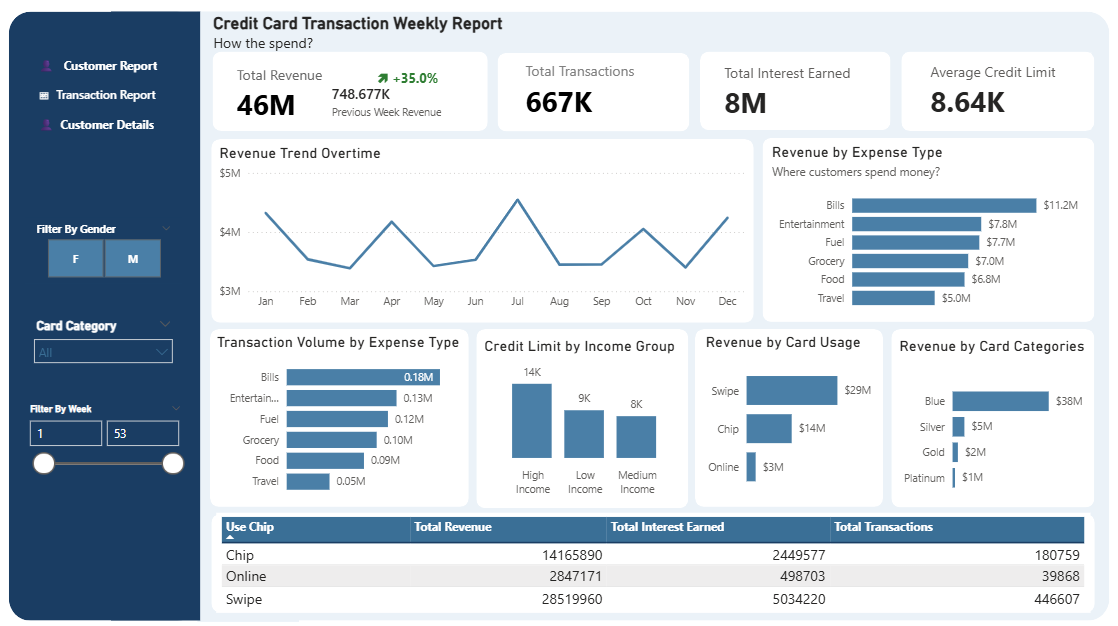

What the dashboard file says about the page in this screenshot:
{"tool":"powerbi","page":{"name":"🗠  Transaction Report","canvas":[1280,720],"ordinal":1},"visuals":[{"type":"group","id":"g1","title":"Background ","box":[10,11.4,1258.6,697.1],"z":0},{"type":"shape","box":[10,11.4,217.7,695.5],"z":0,"group":"g3"},{"type":"group","id":"g2","title":"Right Background","box":[225.4,11.6,1043.1,696.9],"z":0,"group":"g1"},{"type":"shape","box":[248.7,11.9,1019.8,695.5],"z":0,"group":"g2"},{"type":"shape","box":[235.8,62.9,318.5,104.3],"z":0,"group":"g7"},{"type":"shape","box":[568.6,62.9,332.9,104.3],"z":0,"group":"g5"},{"type":"shape","box":[915.7,62.9,332.9,104.3],"z":0,"group":"g4"},{"type":"group","id":"g3","title":"Left Background","box":[10,11.4,219.1,695.5],"z":1000,"group":"g1"},{"type":"shape","box":[127.4,11.4,101.7,695.5],"z":1000,"group":"g3"},{"type":"textbox","box":[238.6,11.4,408.6,67.1],"z":1000},{"type":"shape","box":[225.4,11.6,116,696.9],"z":1000,"group":"g2"},{"type":"cardVisual","fields":{"Data":["CreditCard.Total Transactions"]},"box":[574.2,63.1,216.3,100],"z":1000,"group":"g5"},{"type":"cardVisual","fields":{"Data":["CreditCard.Average Credit Limit"]},"box":[927.1,65.8,214.3,100],"z":1000,"group":"g4"},{"type":"cardVisual","fields":{"Data":["CreditCard.Total Revenue"]},"box":[234.3,67.3,164.1,91.1],"z":1000,"group":"g7"},{"type":"image","box":[491.4,71.7,54.3,41.1],"z":2000,"group":"g7"},{"type":"image","box":[817.9,78.6,60.5,40],"z":2000,"group":"g5"},{"type":"image","box":[1178.6,78.6,60,40],"z":2000,"group":"g4"},{"type":"slicer","fields":{"Values":["customer.Gender"]},"box":[17.1,250,190,74.3],"z":2000},{"type":"slicer","fields":{"Values":["CreditCard.Card_Category"]},"box":[12.9,360,185.7,70],"z":3000},{"type":"slicer","fields":{"Values":["CreditCard.Week Label"]},"box":[15.7,461.4,185.7,70],"z":4000},{"type":"pageNavigator","box":[28.6,60,170,100],"z":5000},{"type":"shape","box":[234.3,177.1,641.4,244.3],"z":6000},{"type":"shape","box":[593,429.9,297.2,255.4],"z":7000},{"type":"shape","box":[885.7,175.7,361.4,242.9],"z":8000},{"type":"lineChart","title":"Weekly Revenue Trend","fields":{"Y":["CreditCard.Total Revenue"],"Category":["CreditCard.Week Label"]},"box":[240.9,190.4,623.3,225.1],"z":9000},{"type":"clusteredBarChart","title":"Revenue by Expense Type","fields":{"Category":["CreditCard.Expenditure_Type"],"Y":["CreditCard.Total Revenue"]},"box":[888.6,180,355.7,235.7],"z":10000},{"type":"shape","box":[235.2,431.4,349.1,255.4],"z":12000},{"type":"shape","box":[901.7,428.5,347.7,258.3],"z":13000},{"type":"clusteredBarChart","title":"Transactions by Spending Category","fields":{"Category":["CreditCard.Expenditure_Type"],"Y":["CreditCard.Total Transactions"]},"box":[240.9,440,333.3,235.2],"z":14000},{"type":"clusteredBarChart","title":"Revenue by Card Categories ","fields":{"Category":["CreditCard.Card_Category"],"Y":["CreditCard.Total Revenue"]},"box":[907.5,440,333.3,235.2],"z":15000},{"type":"group","id":"g4","title":"Card 3","box":[915.7,62.9,332.9,104.3],"z":16000},{"type":"group","id":"g5","title":"Card 2","box":[568.6,62.9,332.9,104.3],"z":17000},{"type":"group","id":"g6","title":"Group 1","box":[234.3,62.9,321,109.7],"z":18000},{"type":"group","id":"g7","title":"Card 1","box":[234.3,62.9,320,104.3],"z":18000,"group":"g6"},{"type":"clusteredColumnChart","title":"Credit Limit by Income Group","fields":{"Y":["CreditCard.Average Credit Limit"],"Category":["customer.Income Group"]},"box":[600.2,440,282.8,233.7],"z":18002},{"type":"cardVisual","title":"KPI WoW","fields":{"Data":["CreditCard.WoW %"]},"box":[354.3,72.9,140,54.3],"z":20000,"group":"g6"},{"type":"cardVisual","title":"KPI PV revenue","fields":{"Data":["CreditCard.Previous Week Revenue"]},"box":[354.3,98.6,201,74],"z":21000,"group":"g6"}]}

Visuals, with their boxes in screenshot pixels (x1, y1, x2, y2), scaled from the page's 1280x720 canvas onto the 1118x626 screenshot:
"Background " group: 9:10:1108:616
shape: 9:10:199:615
"Right Background" group: 197:10:1108:616
shape: 217:10:1108:615
shape: 206:55:484:145
shape: 497:55:787:145
shape: 800:55:1091:145
"Left Background" group: 9:10:200:615
shape: 111:10:200:615
textbox: 208:10:565:68
shape: 197:10:298:616
cardVisual - CreditCard.Total Transactions: 502:55:690:142
cardVisual - CreditCard.Average Credit Limit: 810:57:997:144
cardVisual - CreditCard.Total Revenue: 205:59:348:138
image: 429:62:477:98
image: 714:68:767:103
image: 1029:68:1082:103
slicer - customer.Gender: 15:217:181:282
slicer - CreditCard.Card_Category: 11:313:173:374
slicer - CreditCard.Week Label: 14:401:176:462
pageNavigator: 25:52:173:139
shape: 205:154:765:366
shape: 518:374:778:596
shape: 774:153:1089:364
"Weekly Revenue Trend" lineChart: 210:166:755:361
"Revenue by Expense Type" clusteredBarChart: 776:156:1087:361
shape: 205:375:510:597
shape: 788:373:1091:597
"Transactions by Spending Category" clusteredBarChart: 210:383:502:587
"Revenue by Card Categories " clusteredBarChart: 793:383:1084:587
"Card 3" group: 800:55:1091:145
"Card 2" group: 497:55:787:145
"Group 1" group: 205:55:485:150
"Card 1" group: 205:55:484:145
"Credit Limit by Income Group" clusteredColumnChart: 524:383:771:586
"KPI WoW" cardVisual: 309:63:432:111
"KPI PV revenue" cardVisual: 309:86:485:150
